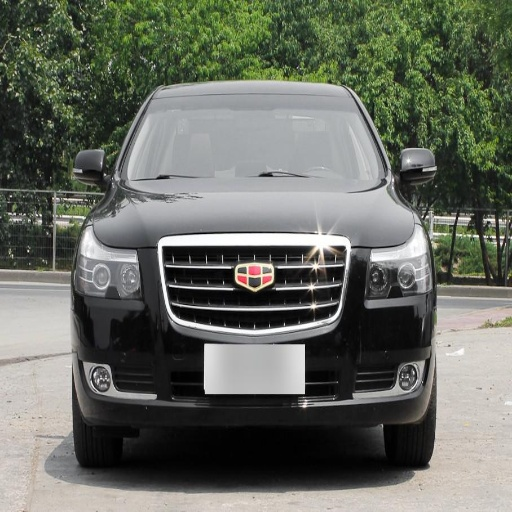front_bumper: (72, 236, 432, 423)
front_right_light: (79, 226, 142, 298)
hood: (94, 176, 414, 247)
left_mirror: (398, 148, 436, 197)
